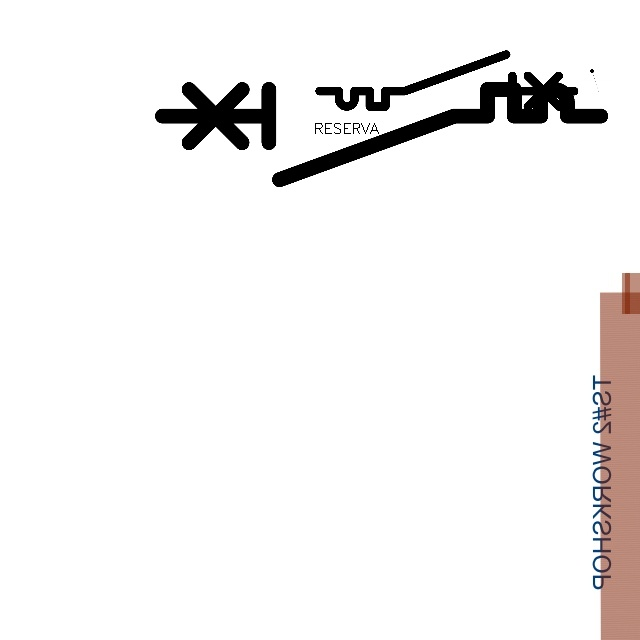interruptor_termomagnetico: (151, 78, 612, 190), (313, 48, 581, 113)
